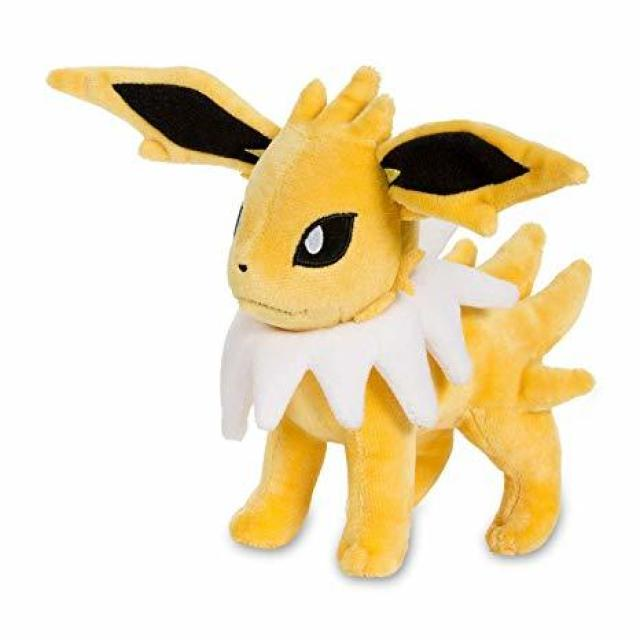Jolteon: (196, 59, 580, 573)
